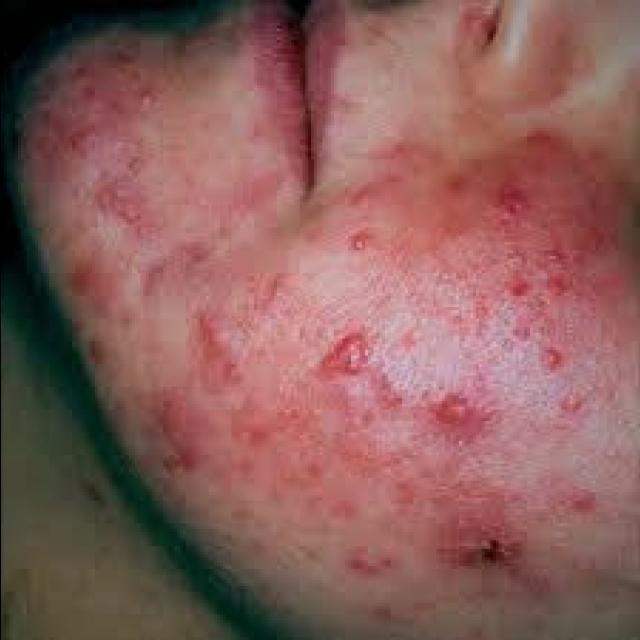Acne: (422, 371, 502, 448), (497, 239, 581, 311), (150, 392, 212, 478), (318, 329, 372, 381), (68, 264, 118, 320), (435, 534, 505, 572), (194, 315, 234, 357), (66, 122, 100, 162), (494, 185, 534, 219), (433, 392, 470, 428), (520, 128, 560, 160), (341, 226, 376, 262), (321, 496, 364, 524), (385, 479, 425, 509), (343, 542, 374, 578), (534, 341, 568, 373), (540, 272, 574, 304), (555, 386, 589, 416), (536, 244, 573, 271), (220, 358, 248, 389), (567, 486, 597, 514), (504, 276, 536, 302), (376, 386, 406, 412), (134, 89, 158, 117), (116, 203, 140, 229), (78, 80, 102, 105)
